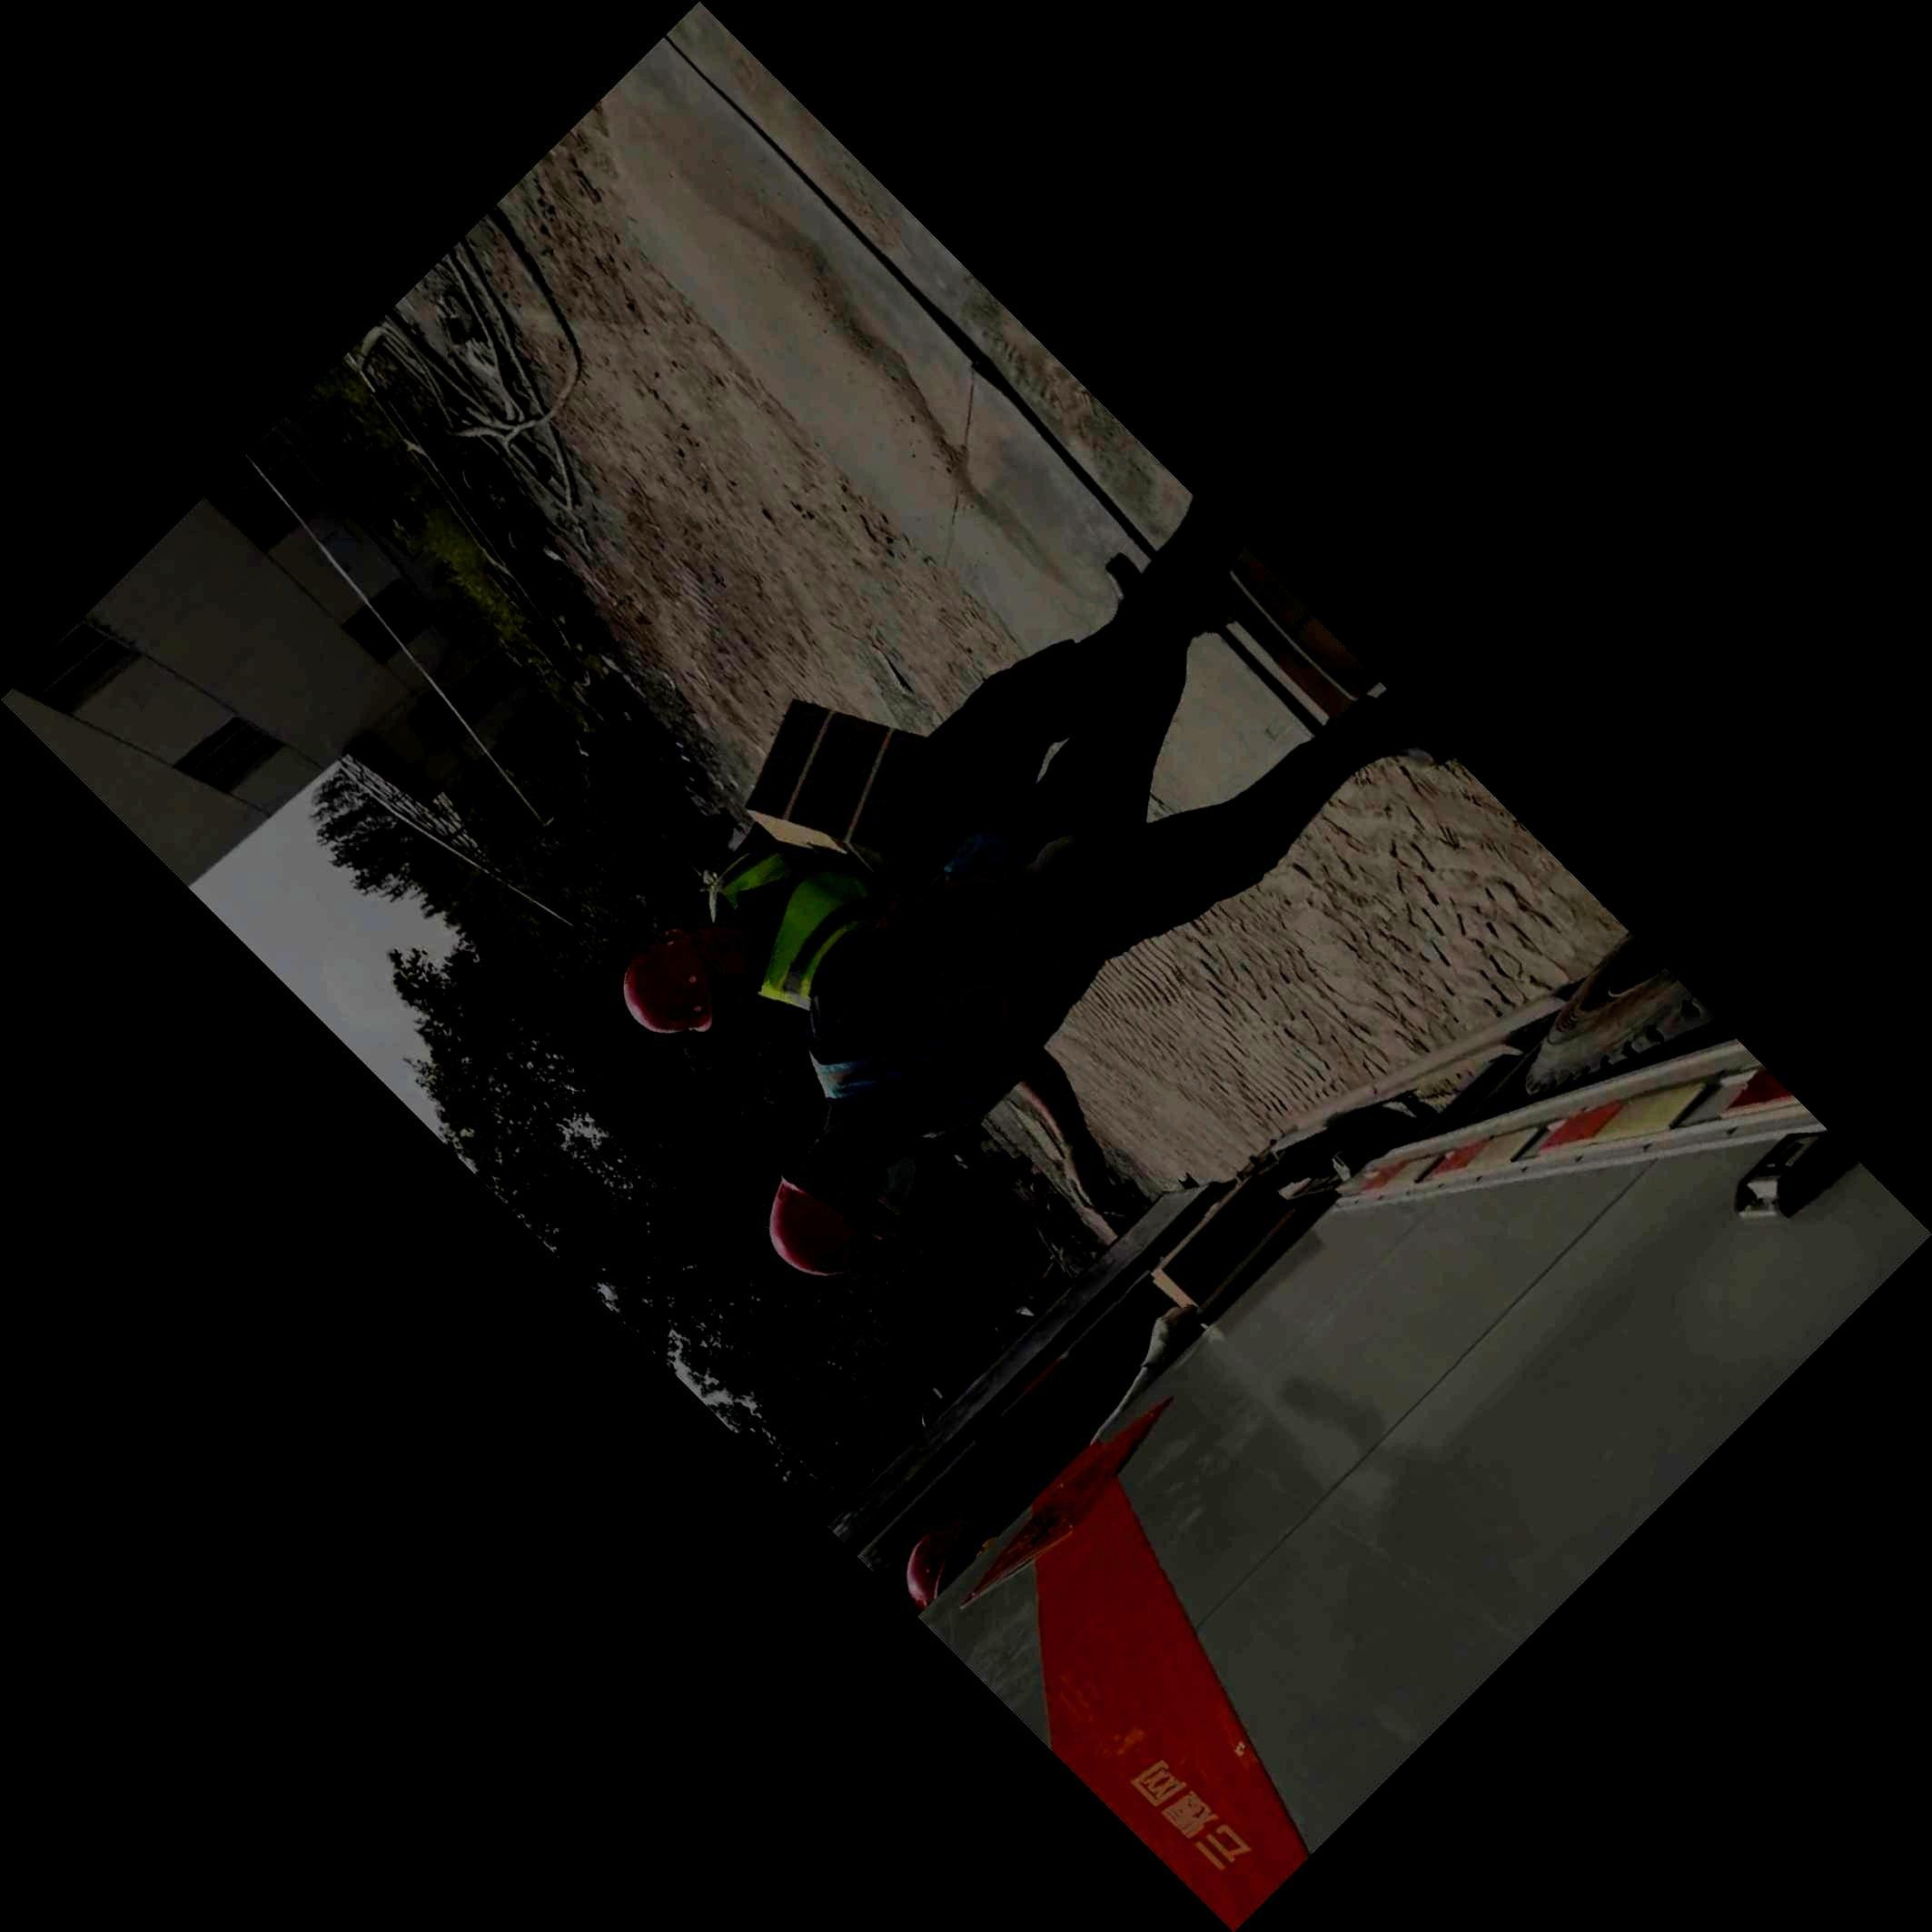helmet: (623, 916, 768, 1035), (768, 1161, 902, 1276)
